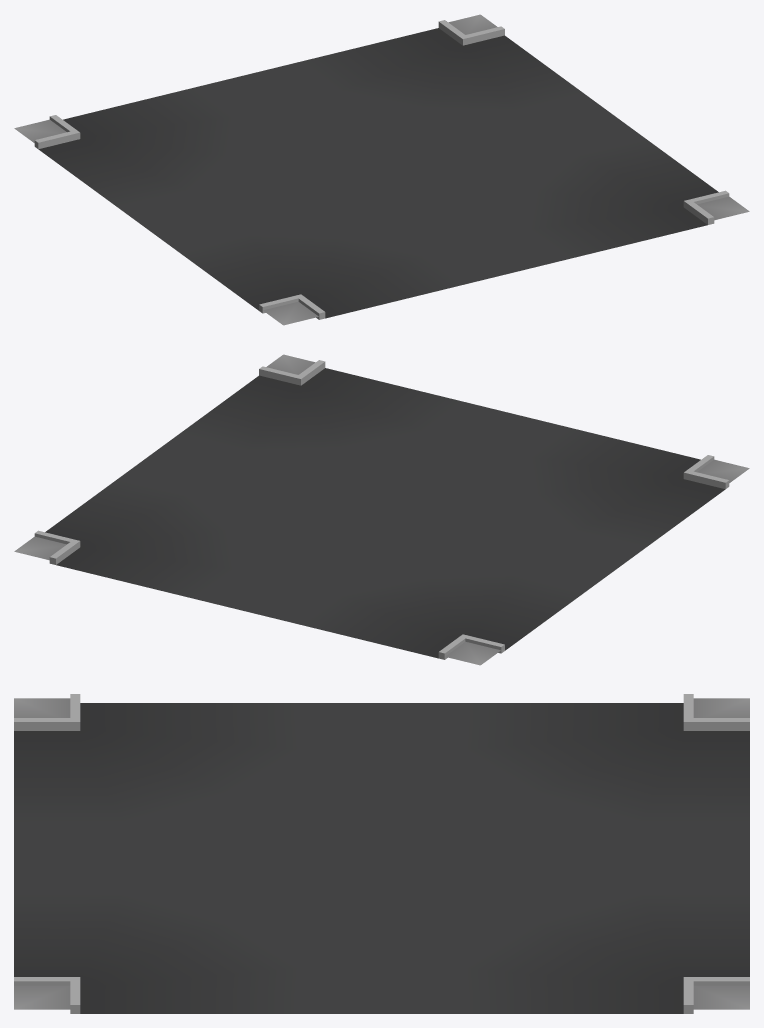
File: road_002.glb
3 renders of one model, top to bottom at view 1: azimuth 30°, elevation 25°; view 2: azimuth 150°, elevation 25°; view 3: azimuth 270°, elevation 25°, orthographic. The views are drawn at different scales.
Visible parts, largest first — view 1: road_002; view 2: road_002; view 3: road_002.
Part boxes in pixels (x1,y1,x2,y2): road_002: (14, 14, 749, 325); road_002: (14, 354, 749, 665); road_002: (14, 694, 749, 1013).
Bounding box in the file's own units: 15 × 0.2 × 15.
Materials: 1 (1 with a texture image).
